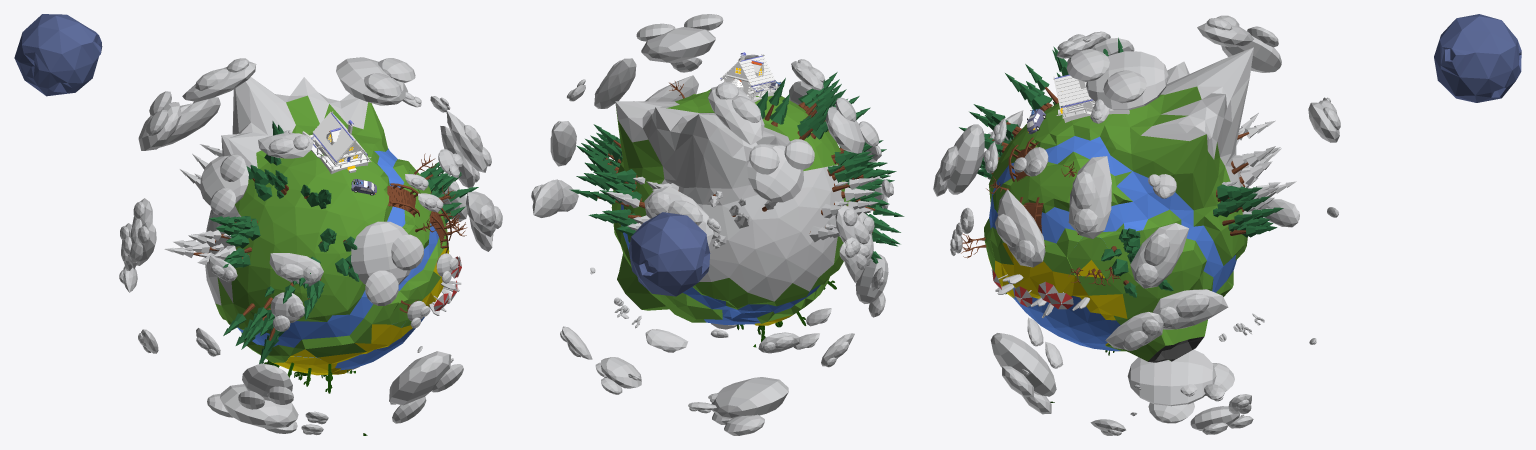
The model's file is planet.glb.
3 renders of one model, left to right at view 1: azimuth 30°, elevation 25°; view 2: azimuth 150°, elevation 25°; view 3: azimuth 270°, elevation 25°, orthographic. The views are drawn at different scales.
Visible parts, largest first — view 1: Icosphere.015, clouds, Icosphere.010; view 2: Icosphere.015, clouds, Icosphere.010; view 3: Icosphere.015, clouds, Icosphere.010.
Part boxes in pixels (left/top/right/bottom): Icosphere.015: left=164, top=77, right=478, bottom=435; clouds: left=119, top=57, right=502, bottom=435; Icosphere.010: left=14, top=14, right=102, bottom=96; Icosphere.015: left=569, top=52, right=904, bottom=347; clouds: left=531, top=14, right=893, bottom=435; Icosphere.010: left=628, top=212, right=710, bottom=296; Icosphere.015: left=959, top=37, right=1296, bottom=402; clouds: left=933, top=15, right=1340, bottom=435; Icosphere.010: left=1434, top=14, right=1521, bottom=102.
Bounding box in the file's own units: 92.66 × 94.66 × 127.
